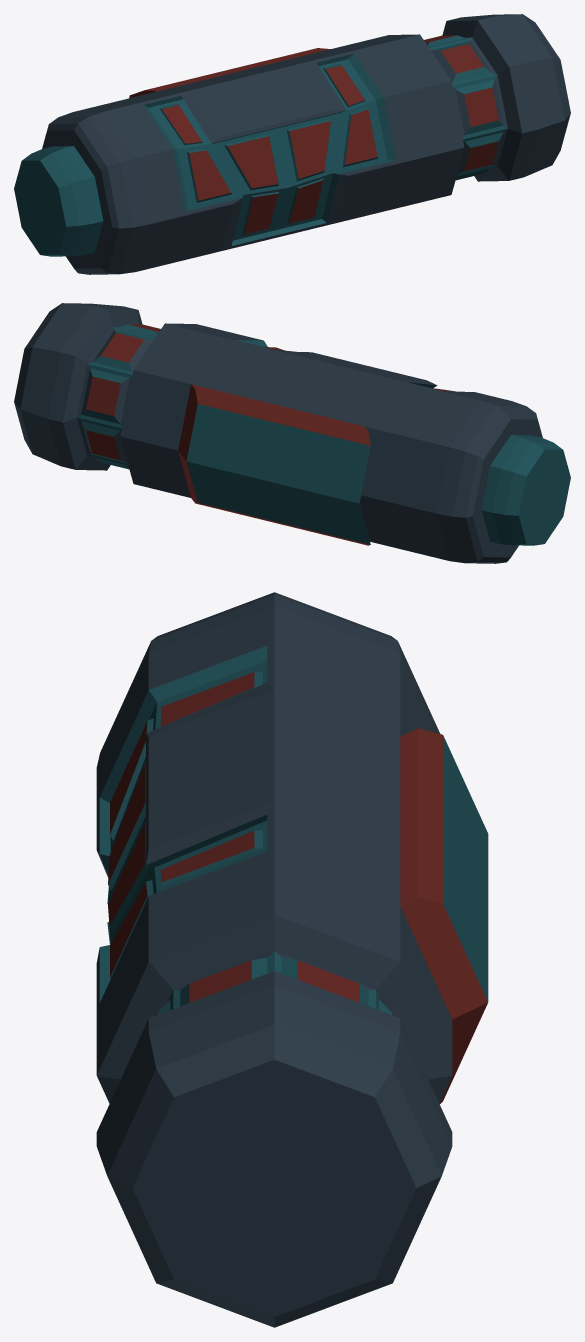
File: PropLower.fbx
The picture shows the model from 3 angles, top to bottom: view 1: azimuth 30°, elevation 25°; view 2: azimuth 150°, elevation 25°; view 3: azimuth 270°, elevation 25°; orthographic projection. The views are drawn at different scales.
Visible parts, largest first — view 1: Cylinder.001; view 2: Cylinder.001; view 3: Cylinder.001.
Part boxes in pixels (x1,y1,x2,y2): Cylinder.001: (14, 14, 570, 274); Cylinder.001: (14, 303, 570, 563); Cylinder.001: (96, 592, 488, 1327).
Bounding box in the file's own units: 107 × 33.37 × 36.73.
